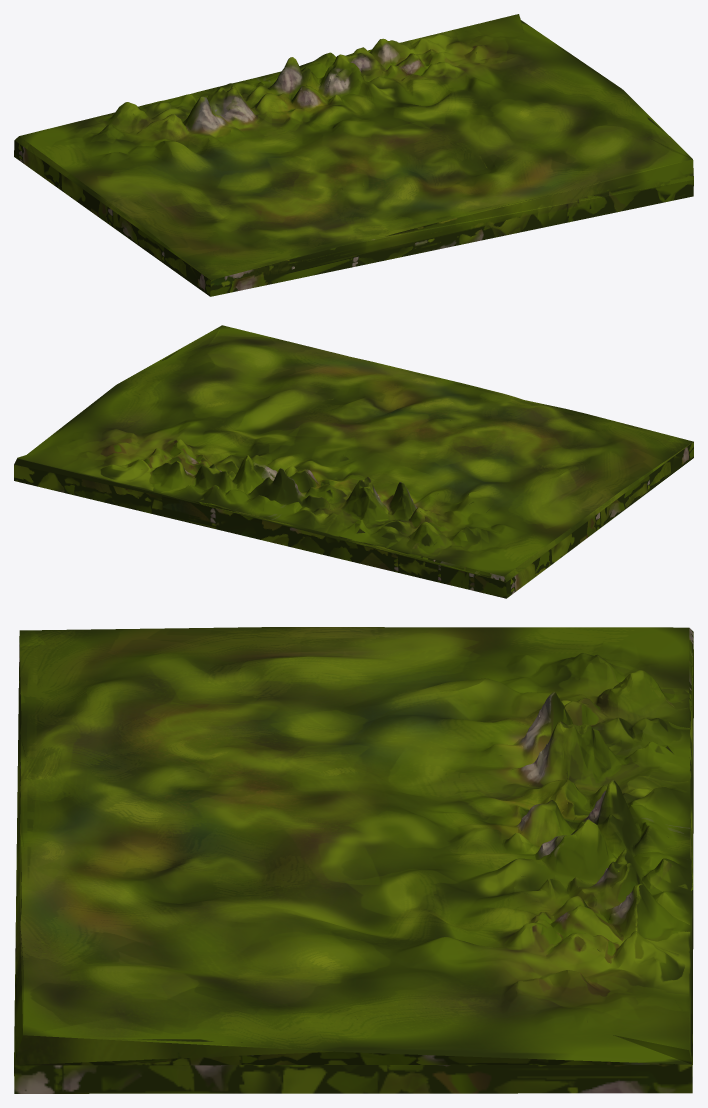
File: terrain.fbx
3 views of the same model, one above another, from view 1: azimuth 30°, elevation 25°; view 2: azimuth 150°, elevation 25°; view 3: azimuth 270°, elevation 25° (orthographic). The views are drawn at different scales.
Parts seen in each view (by area): view 1: Landscape; view 2: Landscape; view 3: Landscape.
Boxes of the visible parts, x1,y1,x2,y2 form: Landscape: (14,14,693,296); Landscape: (14,325,693,598); Landscape: (14,627,693,1093).
Size of the model in its own units: 1507 by 196 by 1011.
1 material, 1 textured.
